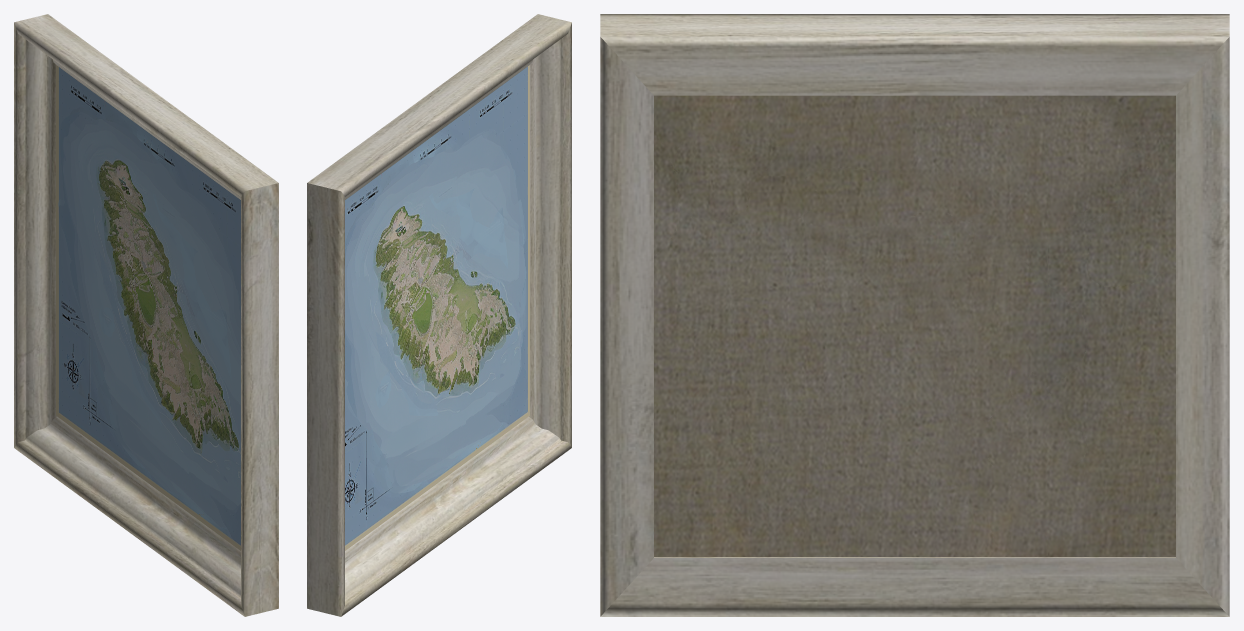
The model's file is PaintingGoose.fbx.
3 views of the same model, side by side, from view 1: azimuth 30°, elevation 25°; view 2: azimuth 150°, elevation 25°; view 3: azimuth 270°, elevation 25° (orthographic). The views are drawn at different scales.
Visible parts, largest first — view 1: PaintingSquare, PaintingFrameSquare; view 2: PaintingSquare, PaintingFrameSquare; view 3: PaintingBackside1, PaintingFrameSquare.
Boxes of the visible parts, <box> form: PaintingSquare: <box>56,65,240,550</box>; PaintingFrameSquare: <box>14,14,278,616</box>; PaintingSquare: <box>345,65,529,550</box>; PaintingFrameSquare: <box>307,14,571,616</box>; PaintingBackside1: <box>654,95,1175,556</box>; PaintingFrameSquare: <box>600,14,1229,616</box>.
Bounding box in the file's own units: 10.08 × 121 × 118.
Materials: 3 (3 with a texture image).
